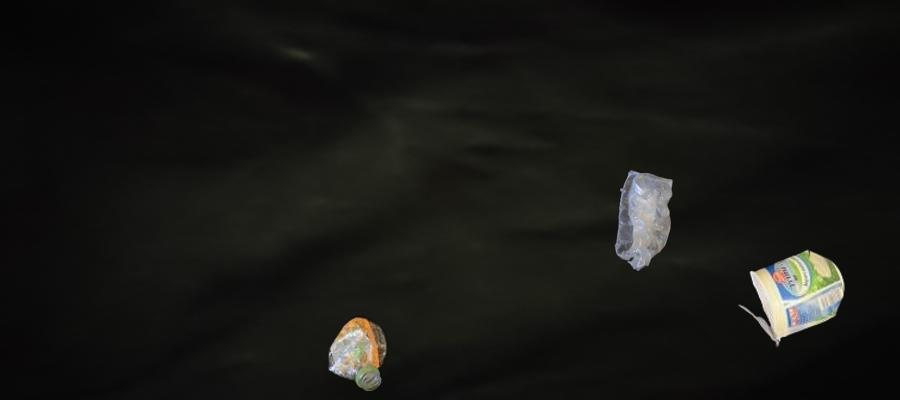PVC: (166, 313, 391, 393), (538, 153, 673, 273), (734, 246, 847, 350)
